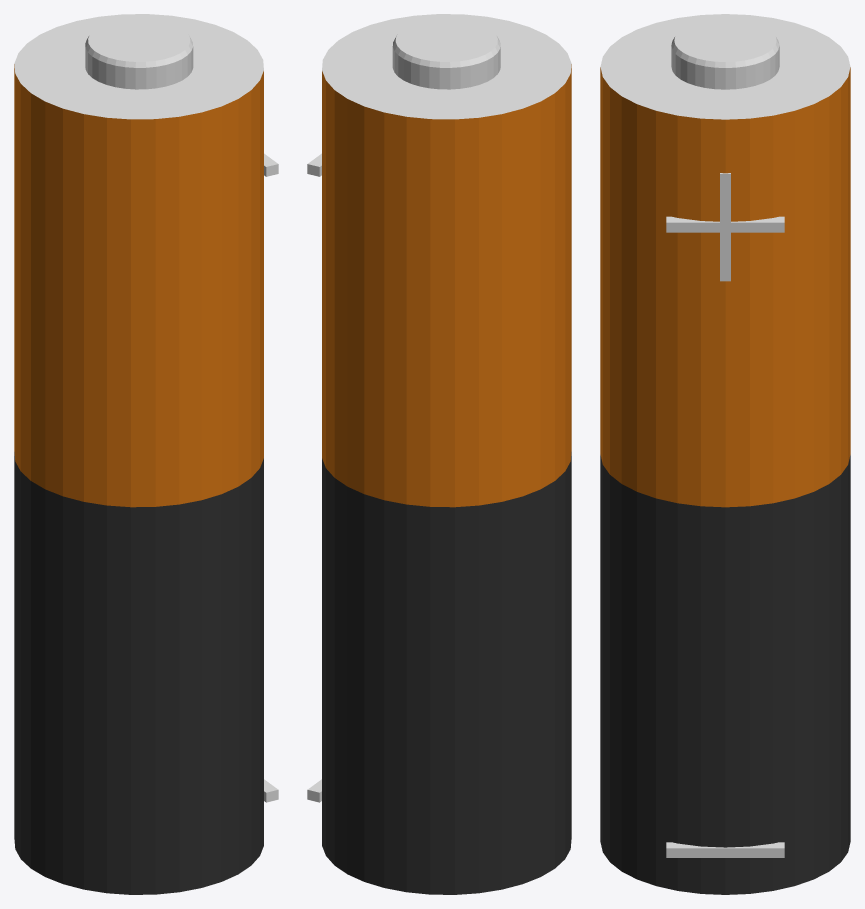
File: BATERRY.fbx
3 renders of one model, left to right at view 1: azimuth 30°, elevation 25°; view 2: azimuth 150°, elevation 25°; view 3: azimuth 270°, elevation 25°, orthographic.
Parts seen in each view (by area): view 1: Cube.002; view 2: Cube.002; view 3: Cube.002.
Boxes of the visible parts, <box> form: Cube.002: <box>14,14,278,894</box>; Cube.002: <box>307,14,571,894</box>; Cube.002: <box>600,14,850,894</box>.
Bounding box in the file's own units: 107 × 375 × 106.
